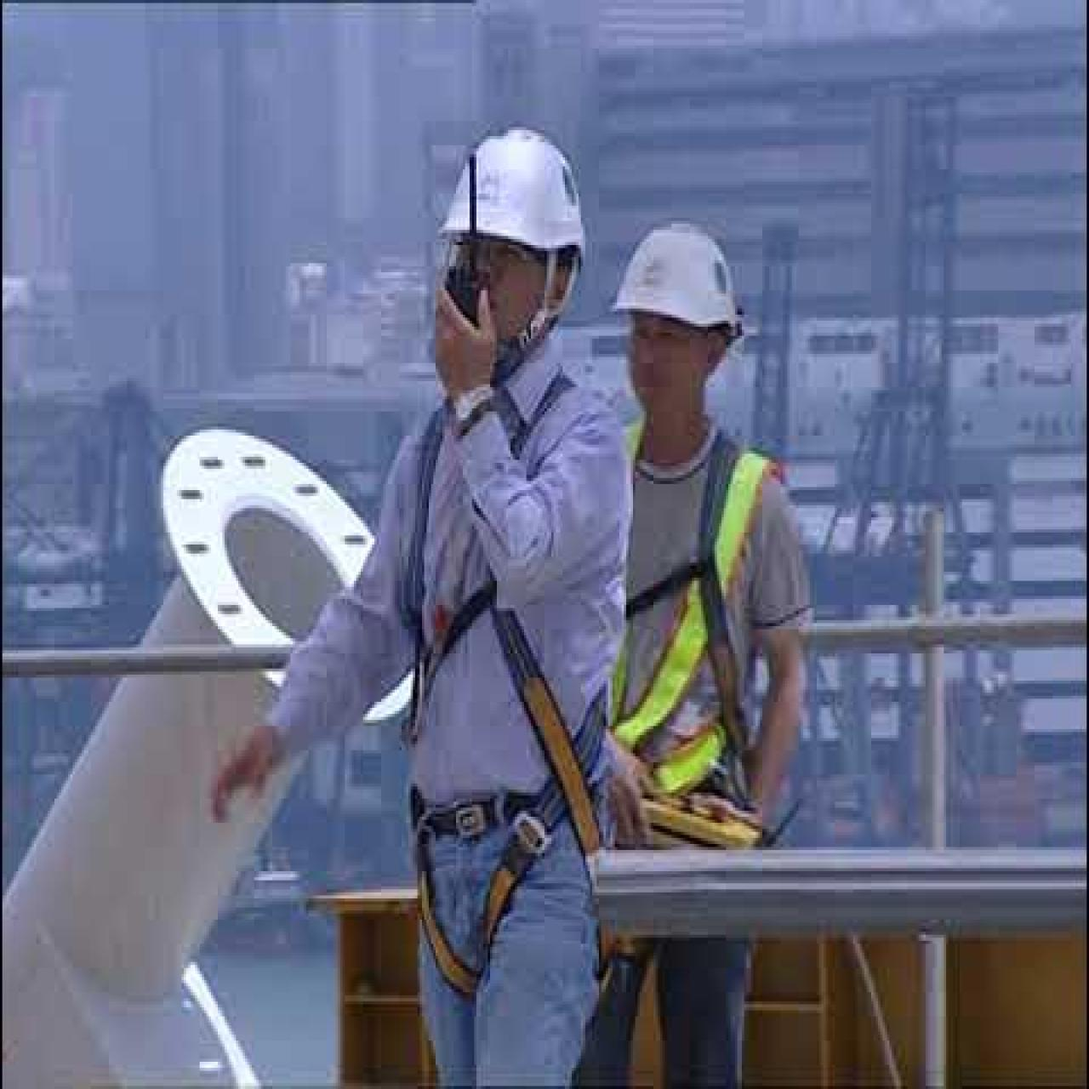NO_Safety_Vest: (375, 359, 624, 830), (594, 410, 794, 821)
Person: (190, 73, 658, 1089), (560, 218, 819, 1089)
